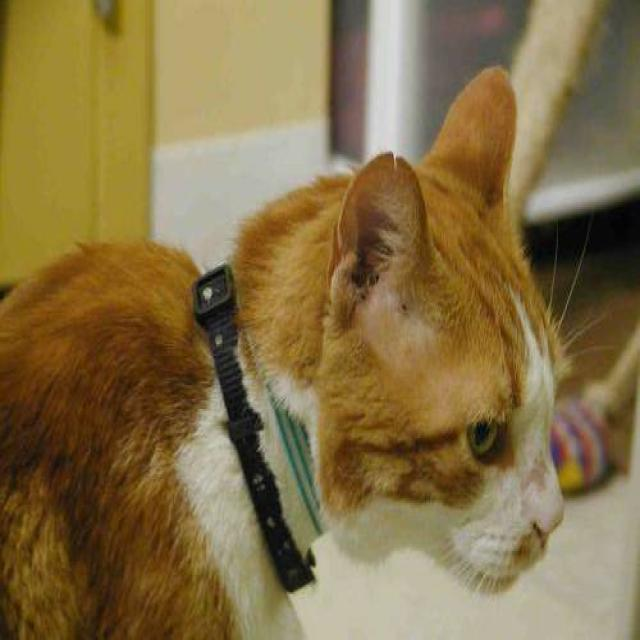cat: (0, 61, 614, 638)
